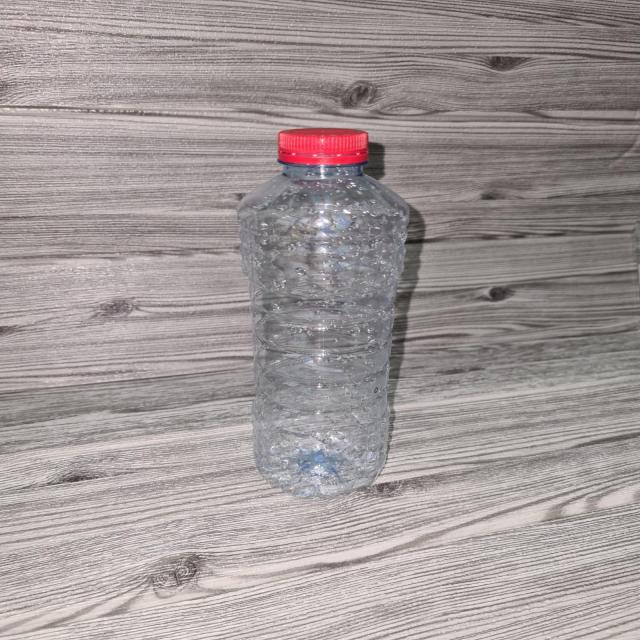bottle: (230, 120, 424, 504)
